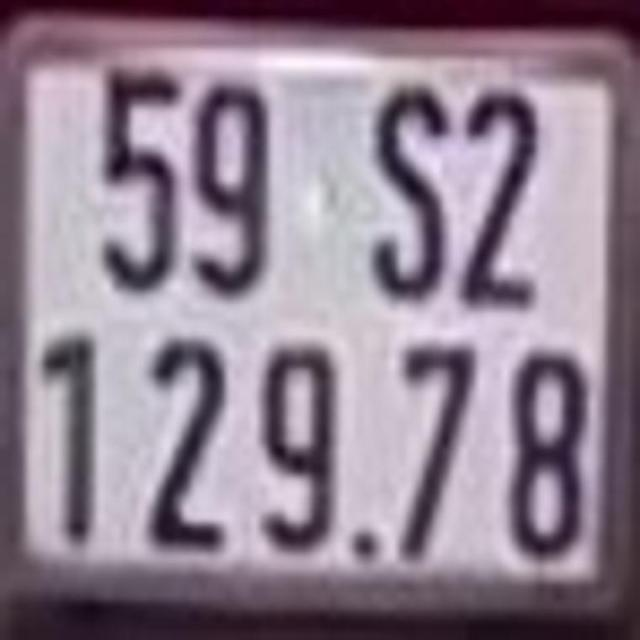1: (40, 340, 104, 543)
2: (459, 80, 539, 315), (151, 335, 225, 552)
5: (103, 65, 179, 289)
7: (402, 341, 480, 564)
8: (515, 346, 585, 557)
9: (263, 340, 333, 550), (202, 84, 271, 292)
S: (375, 82, 444, 308)
